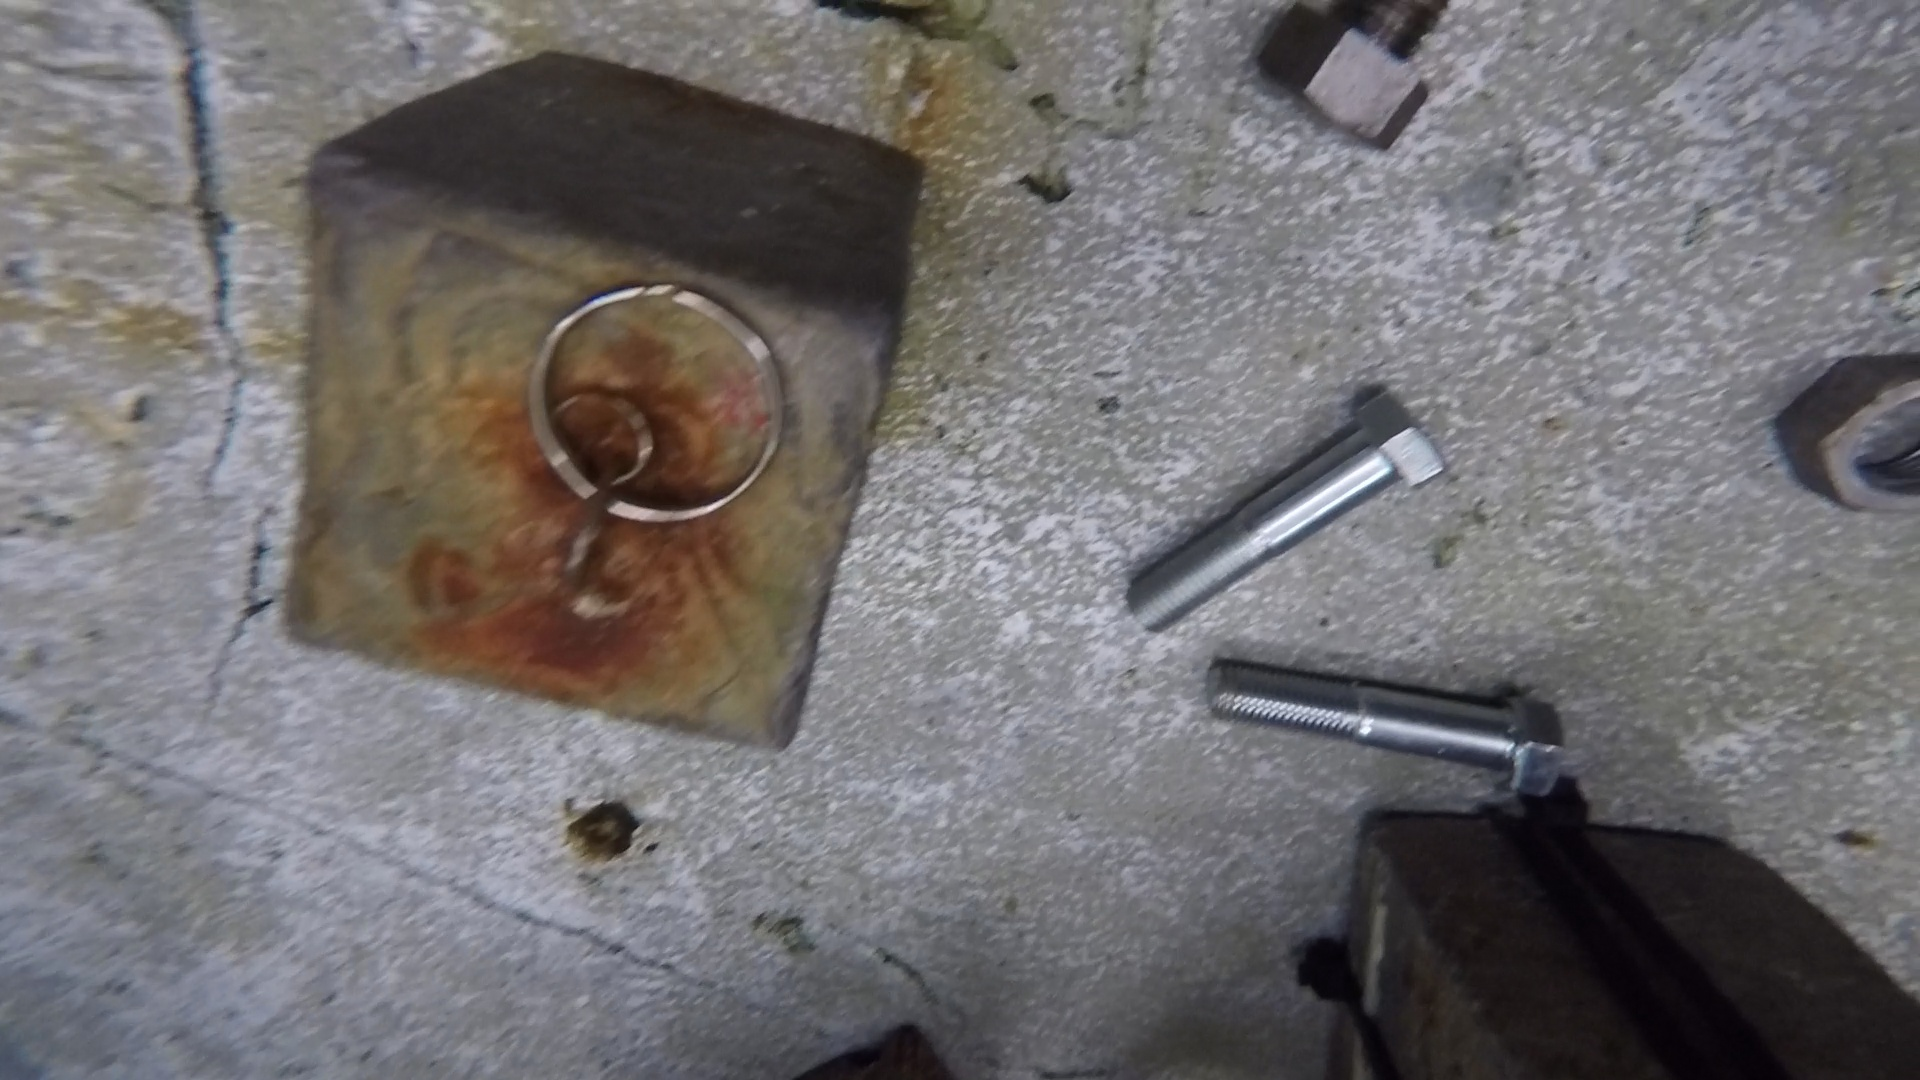bolt: (1125, 380, 1445, 632), (1207, 661, 1567, 796), (1335, 1, 1443, 51)
led_block: (280, 47, 924, 754), (1298, 779, 1920, 1077)
nut: (1258, 3, 1427, 152), (1771, 353, 1917, 512)
